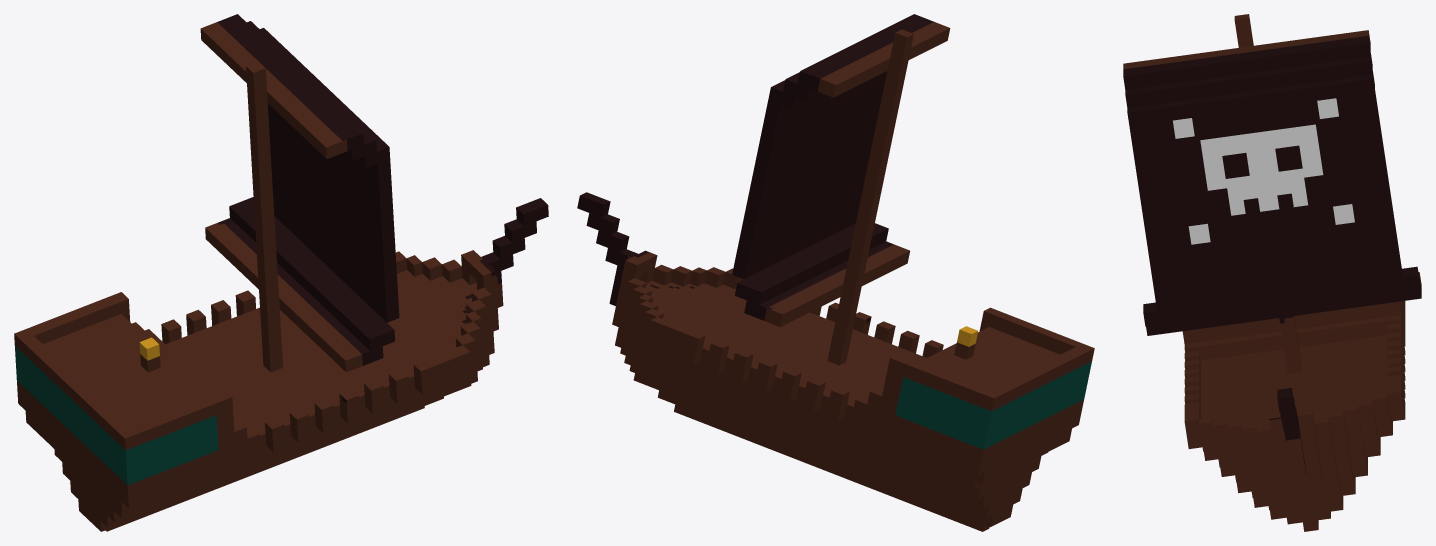
The model's file is ship.fbx.
3 renders of one model, left to right at view 1: azimuth 30°, elevation 25°; view 2: azimuth 150°, elevation 25°; view 3: azimuth 270°, elevation 25°, orthographic. The views are drawn at different scales.
Visible parts, largest first — view 1: boat; view 2: boat; view 3: boat.
Part boxes in pixels (box(x1,y1,x2,y2)): boat: box(14, 14, 548, 531); boat: box(577, 14, 1094, 531); boat: box(1123, 14, 1421, 531).
Size of the model in its own units: 1175 by 1080 by 628.
